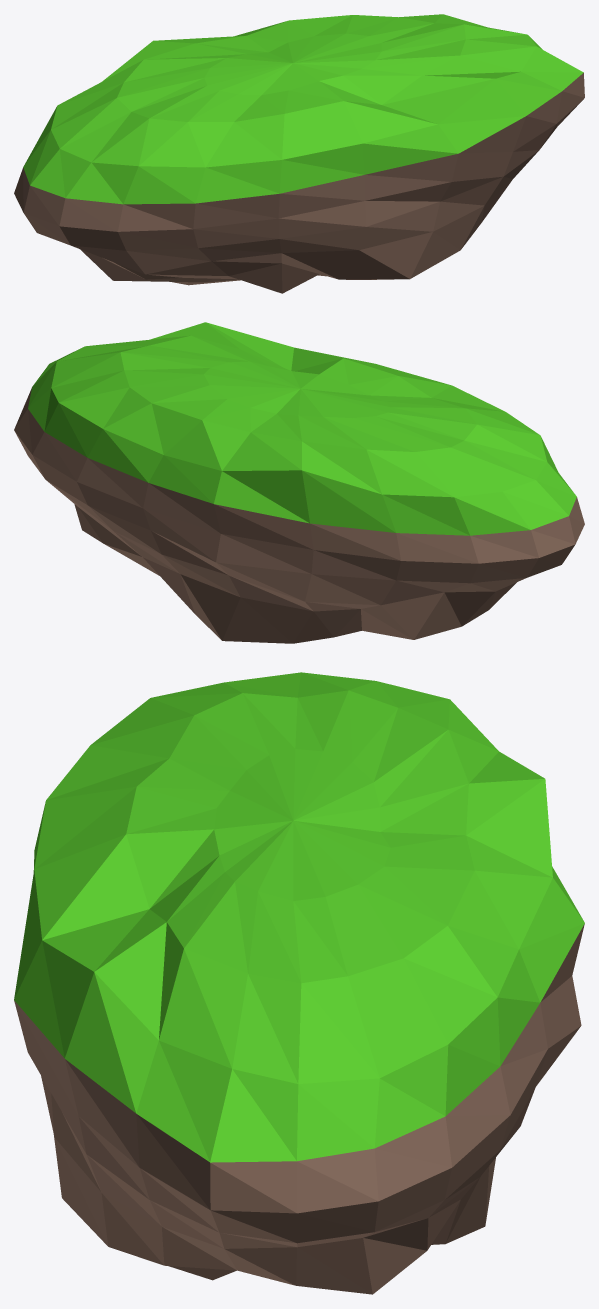
The model's file is island.fbx.
3 renders of one model, top to bottom at view 1: azimuth 30°, elevation 25°; view 2: azimuth 150°, elevation 25°; view 3: azimuth 270°, elevation 25°, orthographic. The views are drawn at different scales.
Parts seen in each view (by area): view 1: polySurface5, polySurface3; view 2: polySurface5, polySurface3; view 3: polySurface5, polySurface3.
Boxes of the visible parts, x1=… form: polySurface5: x1=23, y1=14, x2=583, y2=204; polySurface3: x1=14, y1=73, x2=584, y2=293; polySurface5: x1=28, y1=322, x2=576, y2=535; polySurface3: x1=14, y1=388, x2=584, y2=643; polySurface5: x1=14, y1=672, x2=584, y2=1162; polySurface3: x1=14, y1=924, x2=584, y2=1294.
Size of the model in its own units: 7.54 by 2.86 by 3.82.
